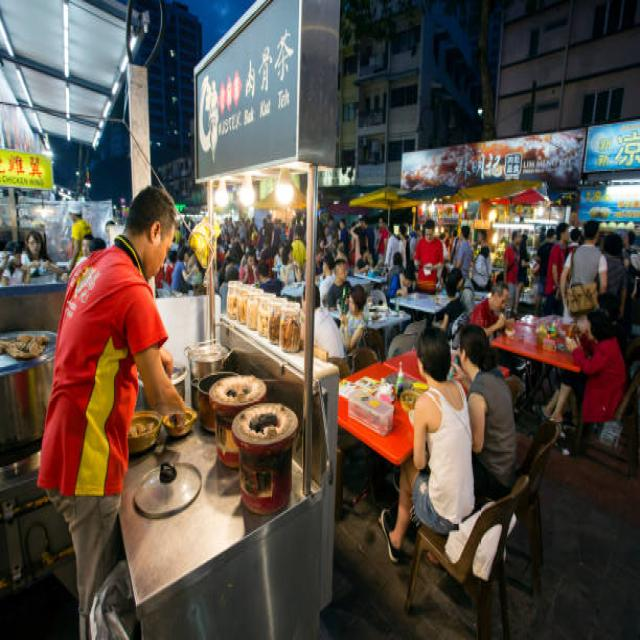Emperan: (48, 0, 360, 640)
